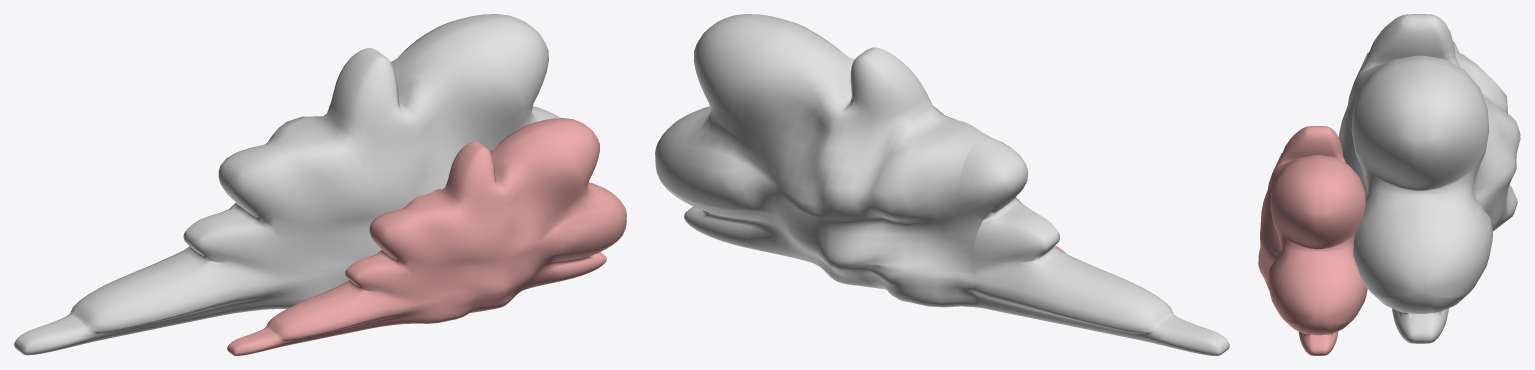
Rendered from cloud.fbx.
The picture shows the model from 3 angles, left to right: view 1: azimuth 30°, elevation 25°; view 2: azimuth 150°, elevation 25°; view 3: azimuth 270°, elevation 25°; orthographic projection. The views are drawn at different scales.
Parts seen in each view (by area): view 1: whitecloud, redcloud; view 2: whitecloud; view 3: whitecloud, redcloud.
Boxes of the visible parts, left/top/right/bottom form: whitecloud: left=14, top=14, right=560, bottom=355; redcloud: left=227, top=118, right=626, bottom=355; whitecloud: left=655, top=14, right=1229, bottom=355; whitecloud: left=1338, top=14, right=1520, bottom=343; redcloud: left=1258, top=126, right=1367, bottom=355.
Bounding box in the file's own units: 6.95 × 2.7 × 2.54.
